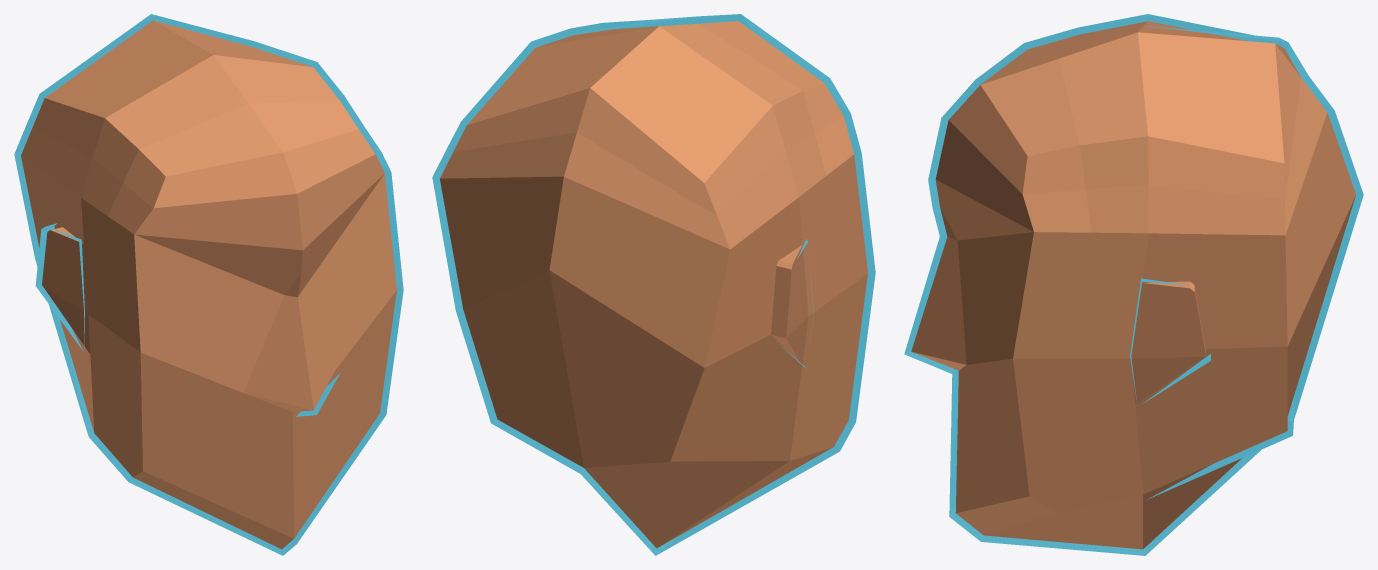
The model's file is simplehead.gltf.
3 renders of one model, left to right at view 1: azimuth 30°, elevation 25°; view 2: azimuth 150°, elevation 25°; view 3: azimuth 270°, elevation 25°, orthographic. The views are drawn at different scales.
Parts seen in each view (by area): view 1: Cube.001; view 2: Cube.001; view 3: Cube.001.
Boxes of the visible parts, <box> form: Cube.001: <box>14,14,403,555</box>; Cube.001: <box>432,14,875,555</box>; Cube.001: <box>904,14,1363,555</box>.
Size of the model in its own units: 4.35 by 6.69 by 5.25.
